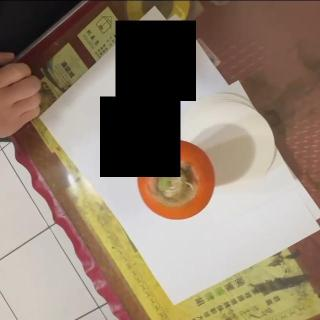carrot: (135, 137, 215, 219)
